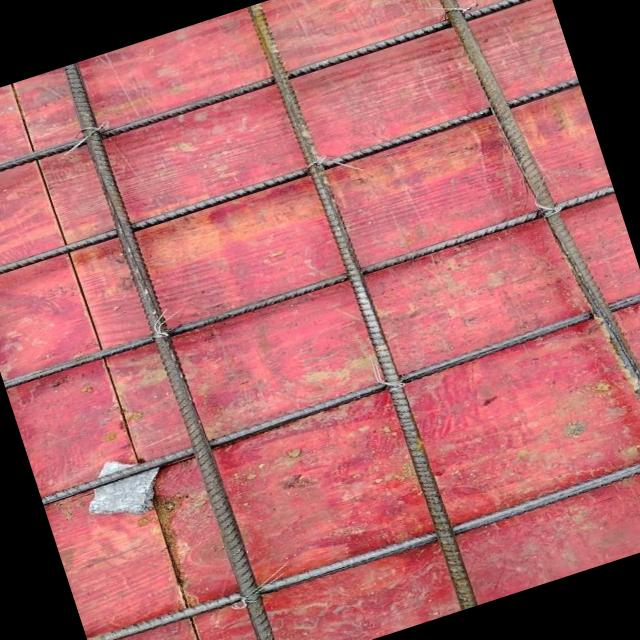ribbed bar: (244, 0, 477, 615), (59, 59, 286, 640), (37, 289, 640, 507), (3, 182, 615, 394), (413, 0, 640, 561), (0, 77, 580, 285), (87, 440, 640, 640), (0, 0, 550, 194)
